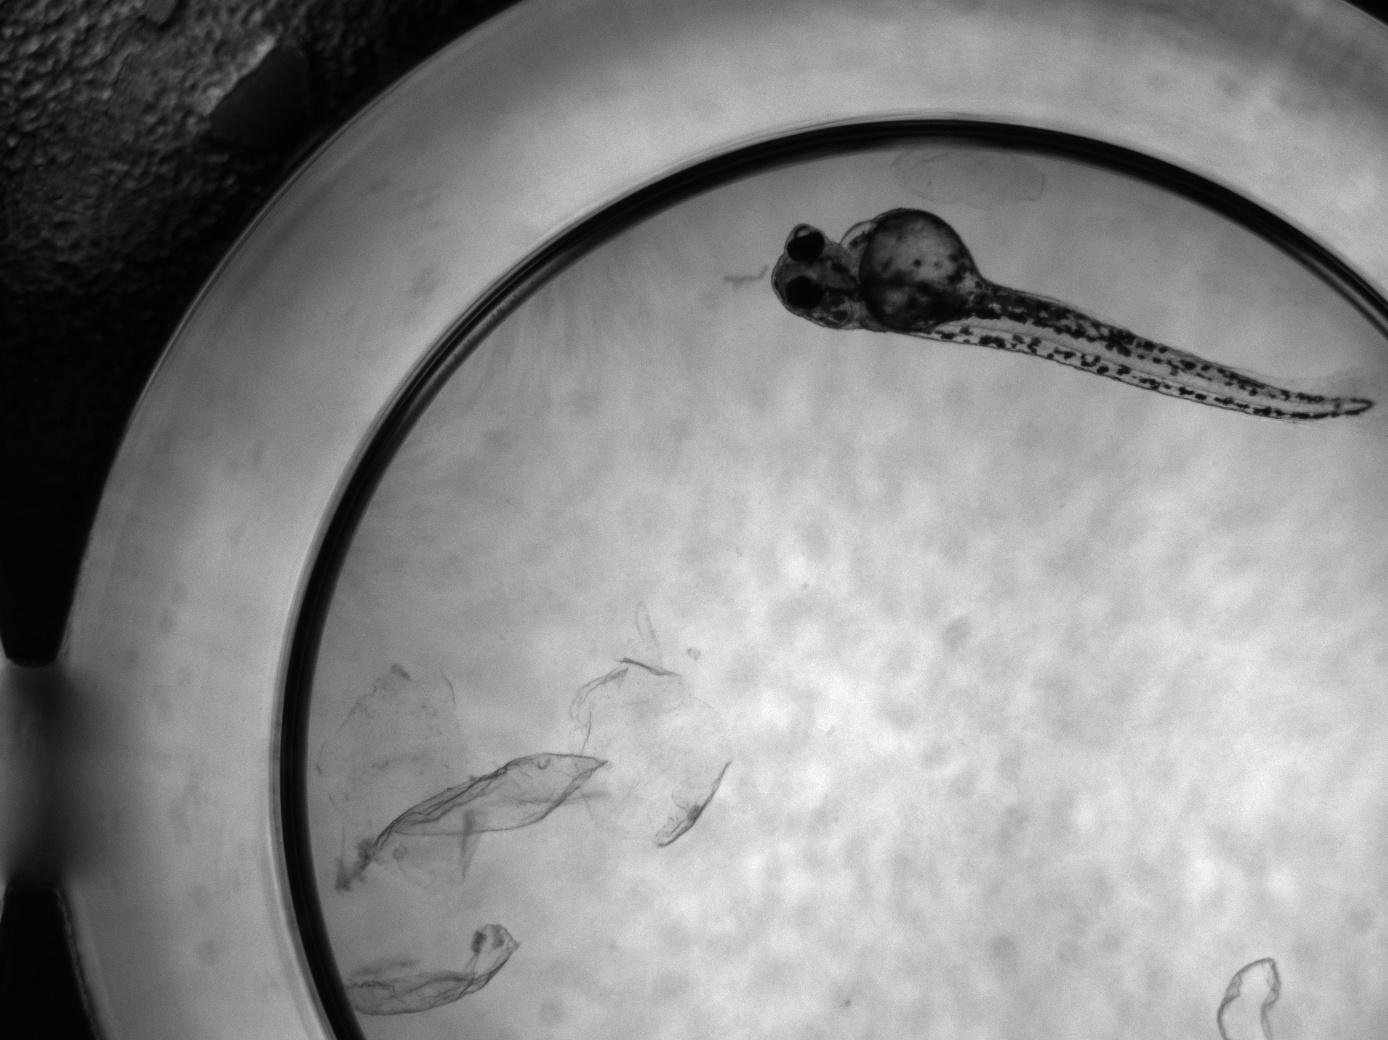debris: (315, 654, 731, 888), (337, 921, 520, 1015), (1215, 957, 1281, 1040)
embryo: (772, 206, 1378, 426)
eye: (786, 225, 825, 263), (785, 275, 822, 310)
yolksac: (835, 208, 982, 334)
